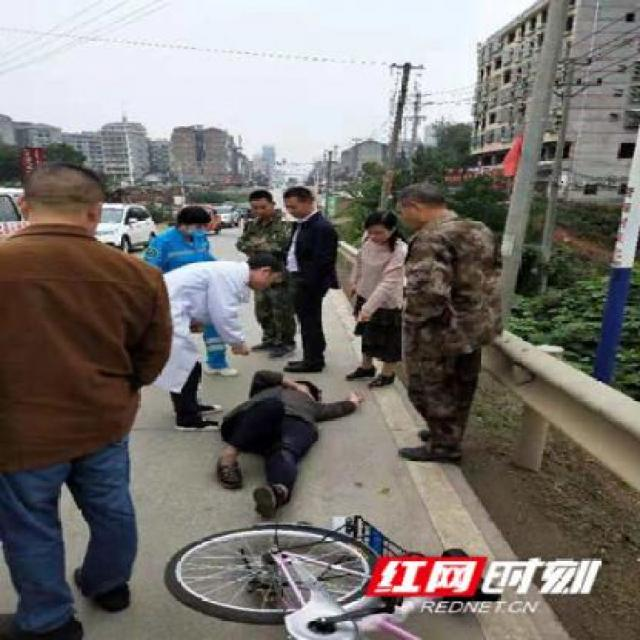fall: (201, 353, 373, 529)
